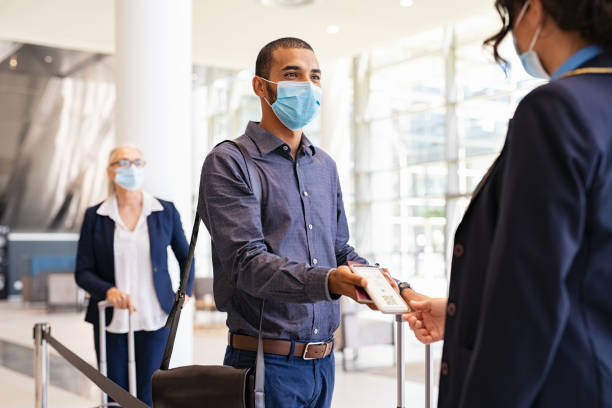with mask: (252, 42, 331, 136), (107, 140, 152, 192)
